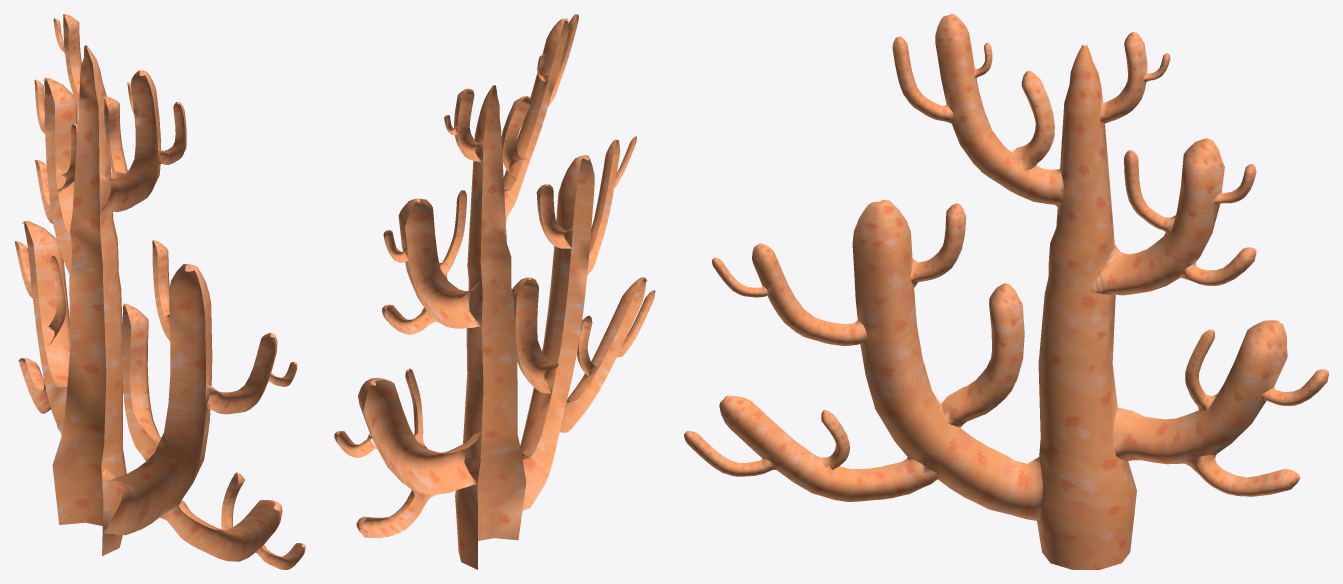
Rendered from Koralli A.fbx.
3 views of the same model, side by side, from view 1: azimuth 30°, elevation 25°; view 2: azimuth 150°, elevation 25°; view 3: azimuth 270°, elevation 25° (orthographic). The views are drawn at different scales.
Parts seen in each view (by area): view 1: Koralli A; view 2: Koralli A; view 3: Koralli A.
Boxes of the visible parts, x1,y1,x2,y2 form: Koralli A: [15, 14, 305, 569]; Koralli A: [334, 14, 655, 569]; Koralli A: [684, 14, 1328, 569].
Size of the model in its own units: 149 by 1039 by 1134.
Materials: 1 (1 with a texture image).
